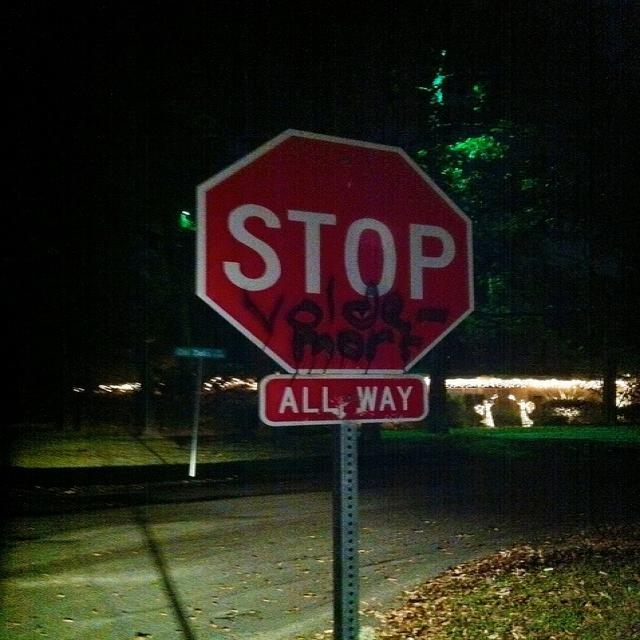pole: (318, 424, 378, 638)
